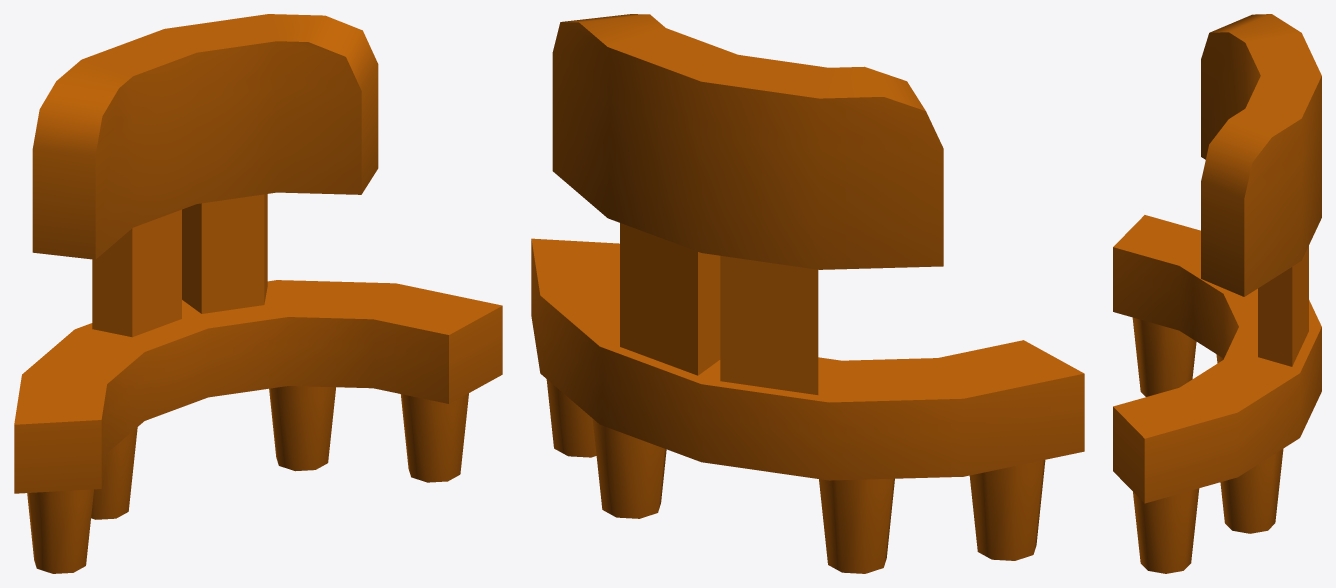
Rendered from Chair_02.fbx.
3 views of the same model, side by side, from view 1: azimuth 30°, elevation 25°; view 2: azimuth 150°, elevation 25°; view 3: azimuth 270°, elevation 25° (orthographic). The views are drawn at different scales.
Visible parts, largest first — view 1: Chair_02; view 2: Chair_02; view 3: Chair_02.
Part boxes in pixels (x1,y1,x2,y2): Chair_02: [14, 14, 502, 573]; Chair_02: [531, 14, 1084, 573]; Chair_02: [1113, 14, 1321, 573].
Bounding box in the file's own units: 124 × 104 × 48.83.
